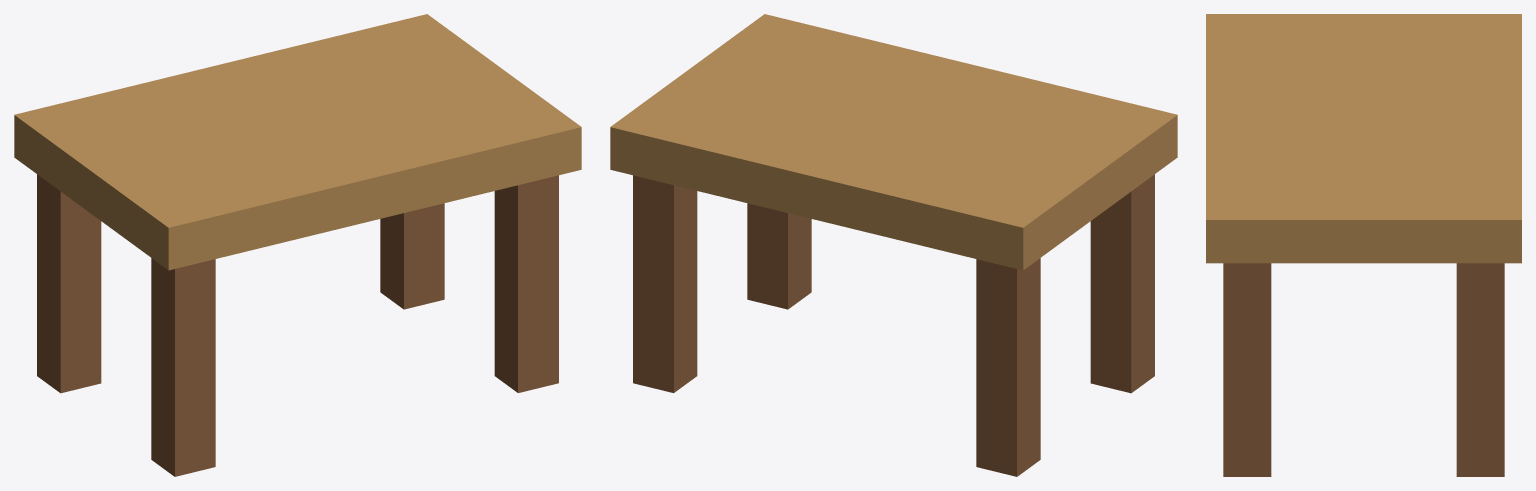
File: small_table.glb
3 renders of one model, left to right at view 1: azimuth 30°, elevation 25°; view 2: azimuth 150°, elevation 25°; view 3: azimuth 270°, elevation 25°, orthographic. The views are drawn at different scales.
Parts seen in each view (by area): view 1: table_top, leg.004, leg.006, leg.005, leg.007; view 2: table_top, leg.005, leg.007, leg.004, leg.006; view 3: table_top, leg.006, leg.007.
Boxes of the visible parts, bbox=[...] form: table_top: bbox=[14, 14, 581, 270]; leg.004: bbox=[151, 258, 215, 476]; leg.006: bbox=[494, 175, 558, 392]; leg.005: bbox=[37, 174, 101, 393]; leg.007: bbox=[380, 203, 444, 309]; table_top: bbox=[610, 14, 1177, 270]; leg.005: bbox=[976, 258, 1040, 476]; leg.007: bbox=[633, 175, 697, 392]; leg.004: bbox=[1090, 174, 1154, 393]; leg.006: bbox=[747, 203, 811, 309]; table_top: bbox=[1206, 14, 1521, 263]; leg.006: bbox=[1223, 263, 1271, 476]; leg.007: bbox=[1456, 263, 1504, 476].
Bounding box in the file's own units: 1.42 × 0.85 × 0.92.
